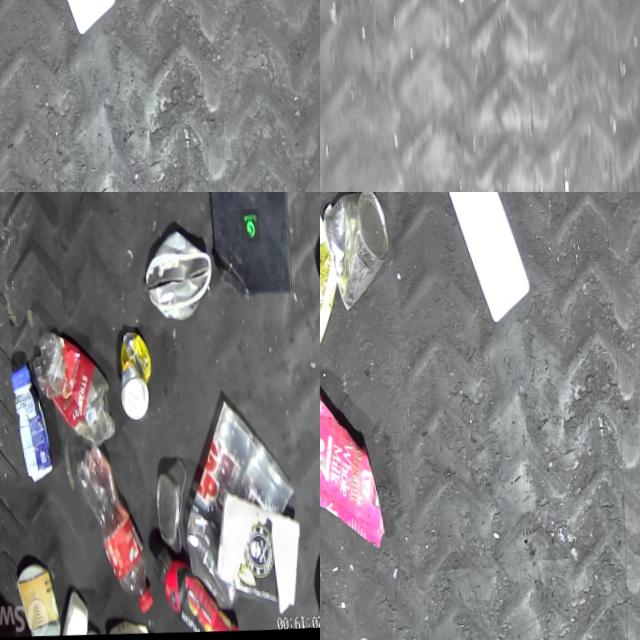can: (320, 192, 388, 313), (137, 220, 214, 326), (99, 322, 151, 432), (139, 445, 184, 562)
milk_jug: (439, 192, 529, 327), (25, 0, 115, 39)
plastic_bottle: (63, 440, 145, 617), (21, 320, 107, 445)
